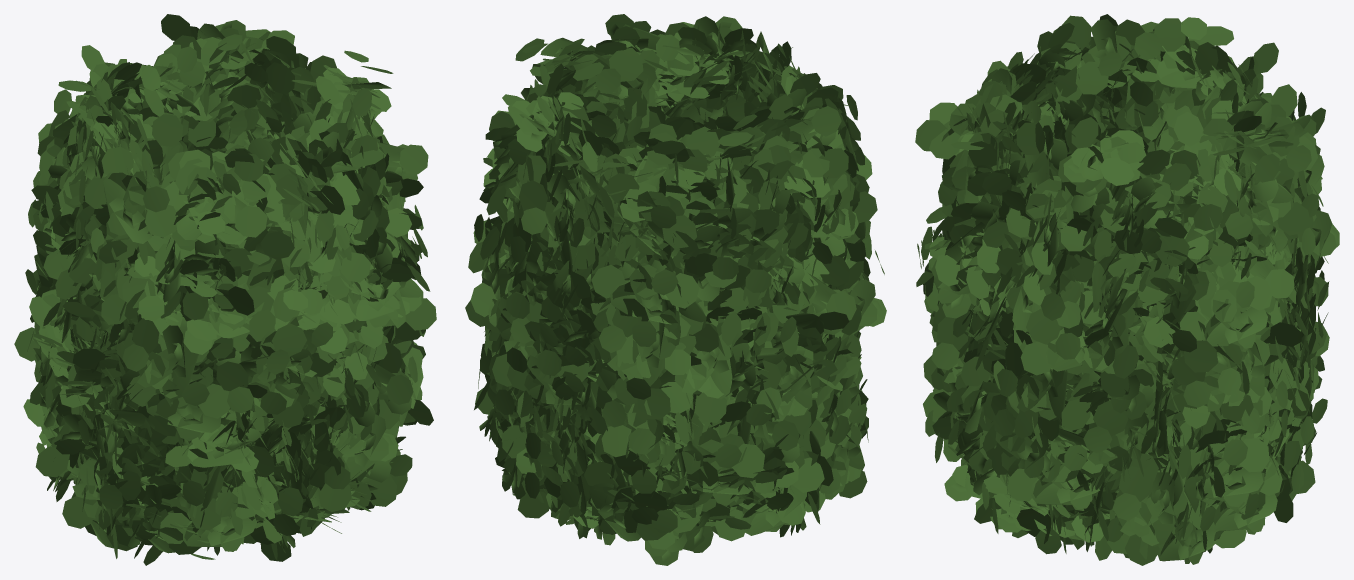
Rendered from ivy_Tonneau.fbx.
The picture shows the model from 3 angles, left to right: view 1: azimuth 30°, elevation 25°; view 2: azimuth 150°, elevation 25°; view 3: azimuth 270°, elevation 25°; orthographic projection. The views are drawn at different scales.
Visible parts, largest first — view 1: Plane; view 2: Plane; view 3: Plane.
Boxes of the visible parts, x1=… form: Plane: x1=14, y1=14, x2=436, y2=565; Plane: x1=465, y1=14, x2=886, y2=565; Plane: x1=915, y1=14, x2=1339, y2=565.
Bounding box in the file's own units: 206 × 235 × 200.
